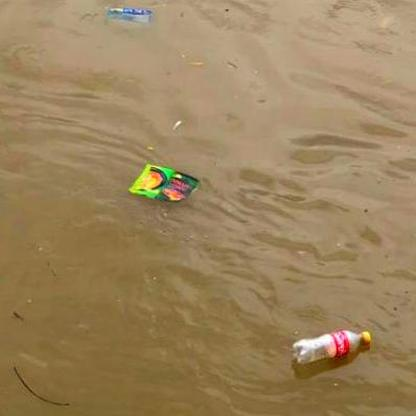plastic bag: (128, 162, 199, 202), (105, 9, 153, 31)
plastic bottle: (291, 330, 370, 362)
